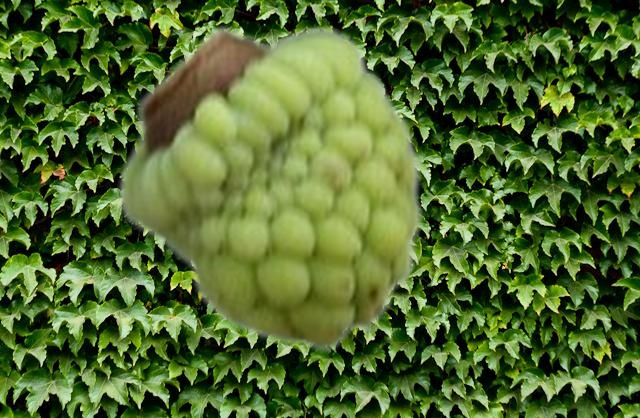atis: (117, 22, 424, 354)
